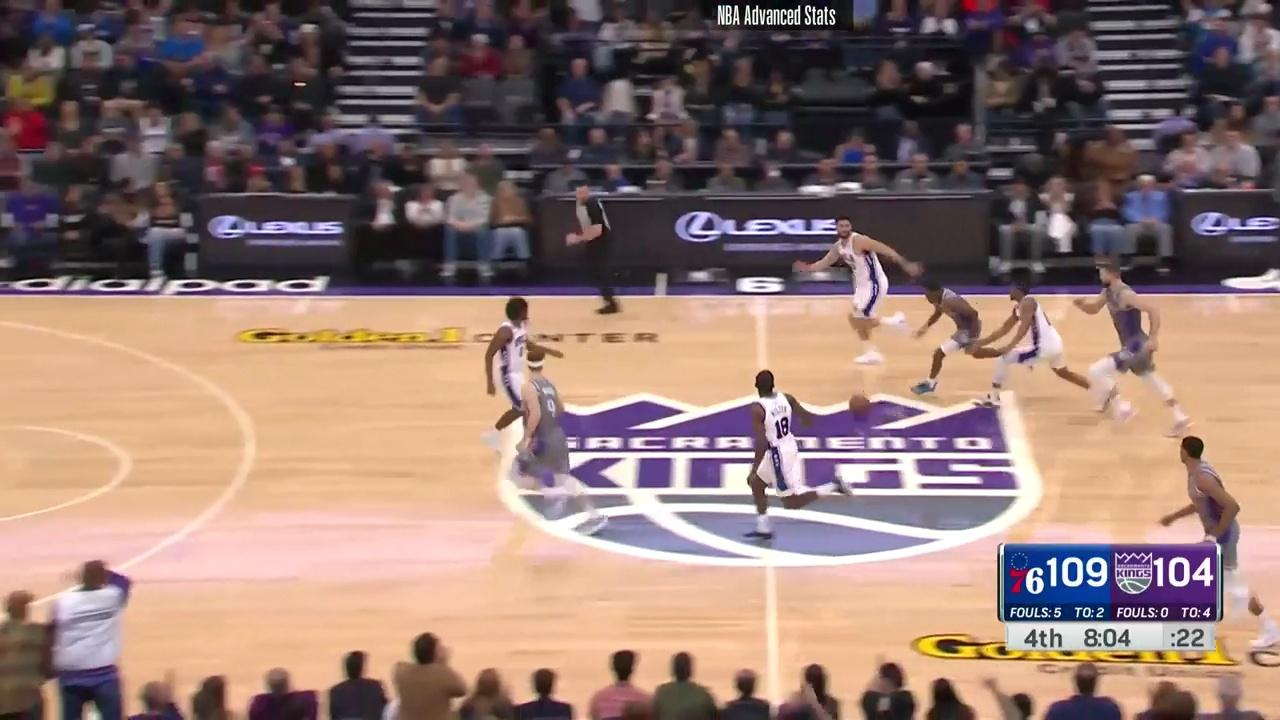Ball: (850, 393, 870, 416)
Dribble: (853, 414, 868, 420)
Person: (1161, 431, 1278, 656), (729, 367, 853, 545), (1077, 258, 1191, 430), (508, 342, 608, 534), (802, 219, 923, 368), (485, 295, 573, 488), (975, 278, 1101, 409), (913, 280, 1017, 397)
Referee: (561, 174, 640, 326)
person: (44, 557, 144, 719)
